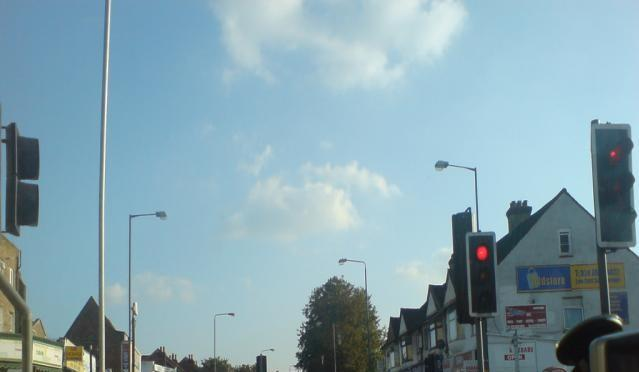red_light: (589, 124, 636, 246), (466, 232, 499, 317)
